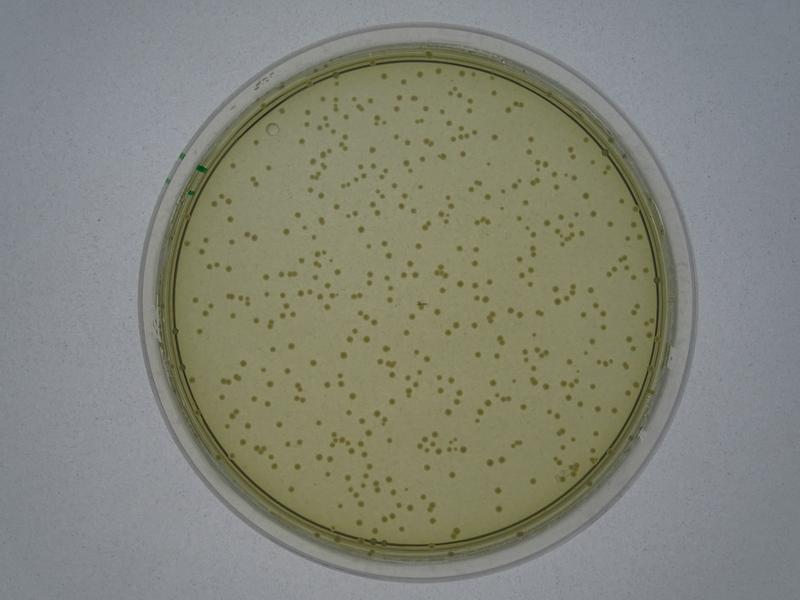colony: (524, 472, 538, 487), (348, 389, 361, 403), (260, 270, 272, 285), (490, 131, 502, 145), (272, 418, 284, 431), (514, 251, 525, 265), (238, 357, 250, 369), (399, 327, 411, 339), (280, 225, 291, 238), (314, 417, 324, 431), (580, 189, 590, 203), (468, 319, 480, 330), (432, 306, 443, 318), (493, 485, 504, 497), (452, 242, 464, 253), (378, 238, 391, 248), (483, 277, 496, 287), (309, 358, 320, 369), (224, 213, 235, 224), (456, 148, 467, 159), (338, 349, 348, 361), (367, 143, 377, 155), (446, 469, 458, 479), (356, 224, 367, 234), (285, 340, 295, 351), (386, 396, 397, 406), (332, 199, 340, 212), (333, 268, 343, 278), (412, 240, 422, 250), (488, 377, 498, 387), (422, 464, 432, 474), (263, 164, 274, 173), (193, 327, 204, 336), (414, 182, 425, 191)
